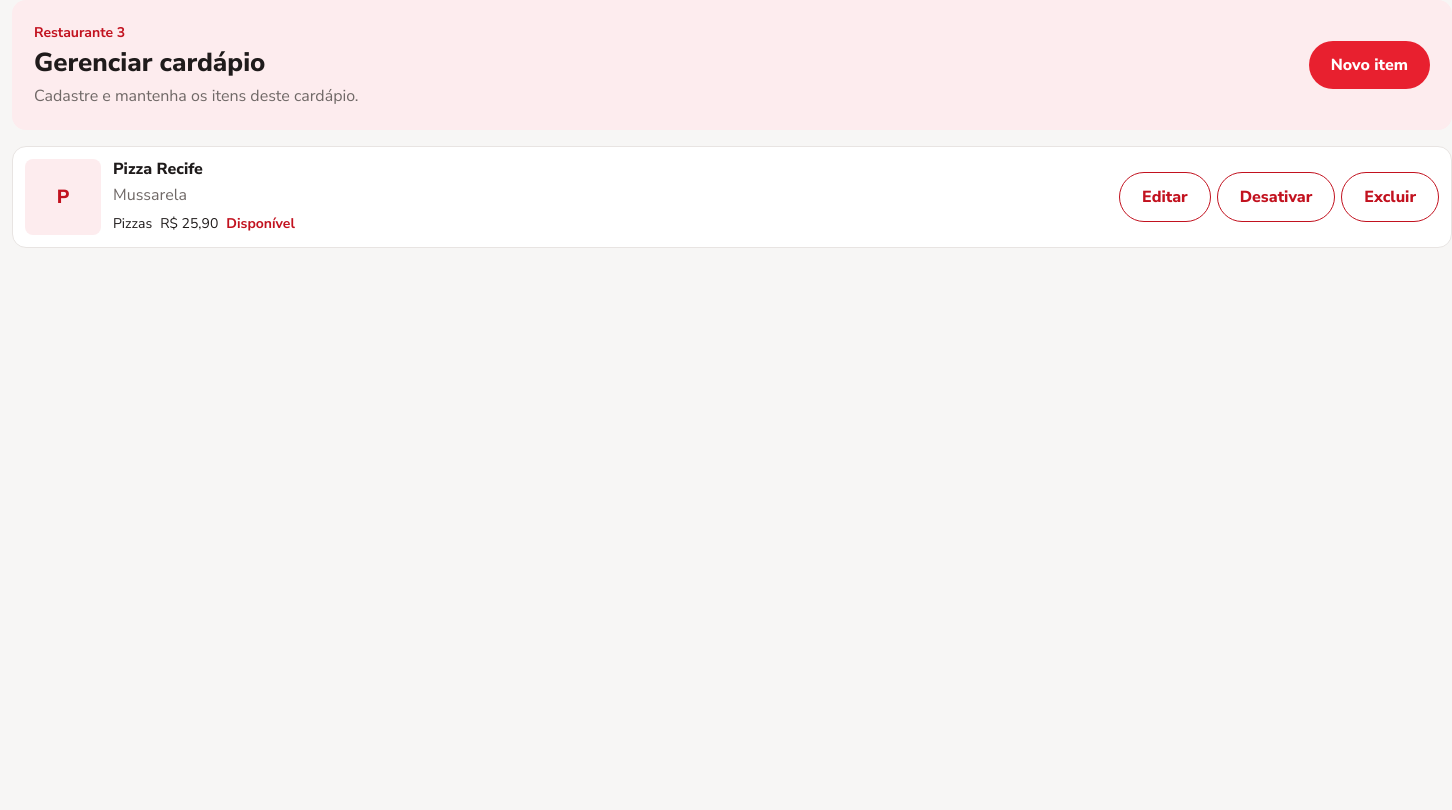
Test case: PainelCardapio › alterna disponibilidade e pede confirmação antes de excluir
Expected: the heading "Pizza Recife" is shown, [113,158,203,180]
Click the button with aria-label "Tornar indisponível: Pizza Recife".
click(1276, 197)  # box [1217,172,1335,222]
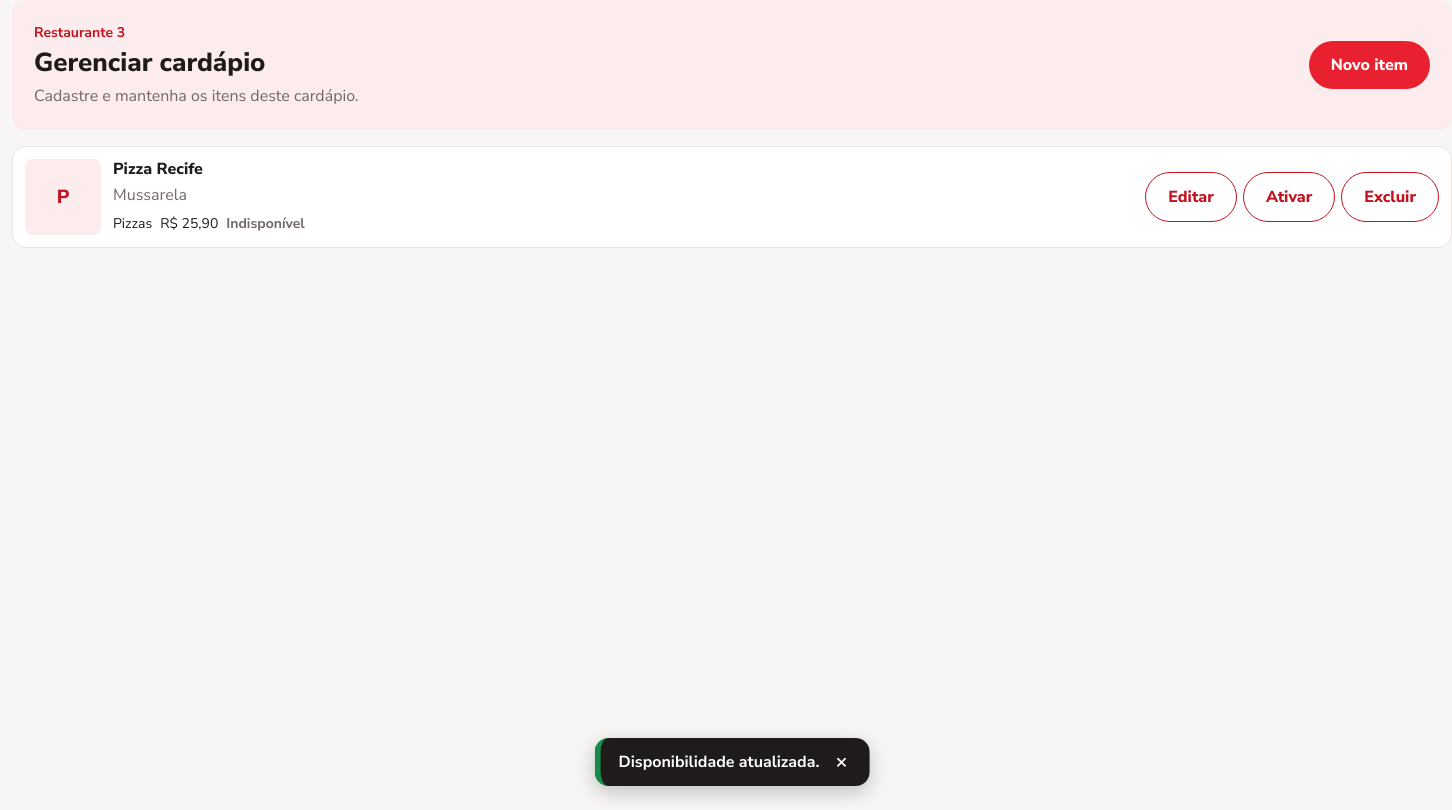
Expected: the text "Indisponível" is shown, [226,213,305,234]
Click the button with aria-label "Excluir Pizza Recife".
click(1390, 197)  # box [1341,172,1439,222]
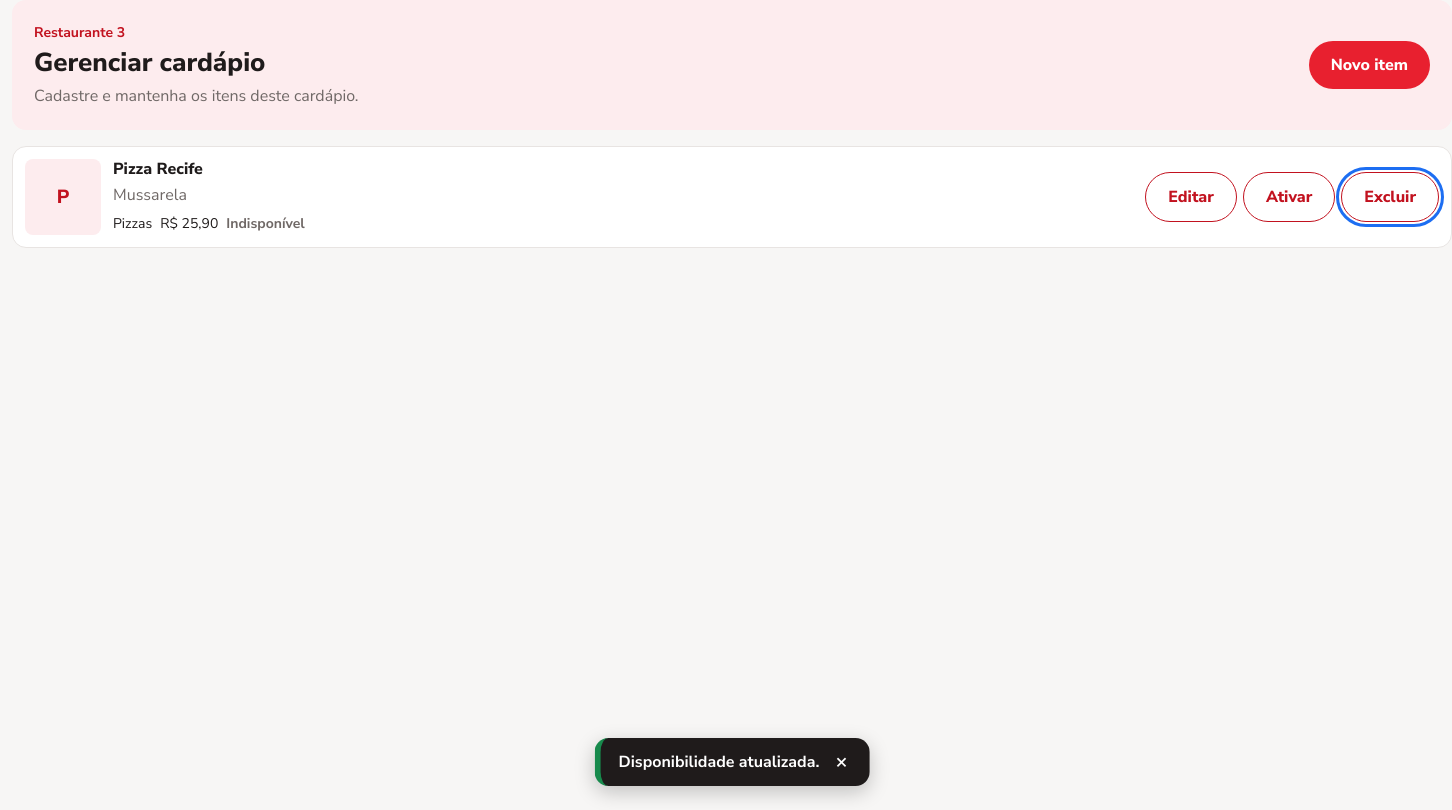
Expected: the heading "Pizza Recife" is shown, [113,158,203,180]
Click the button with aria-label "Excluir Pizza Recife".
click(1390, 197)  # box [1341,172,1439,222]
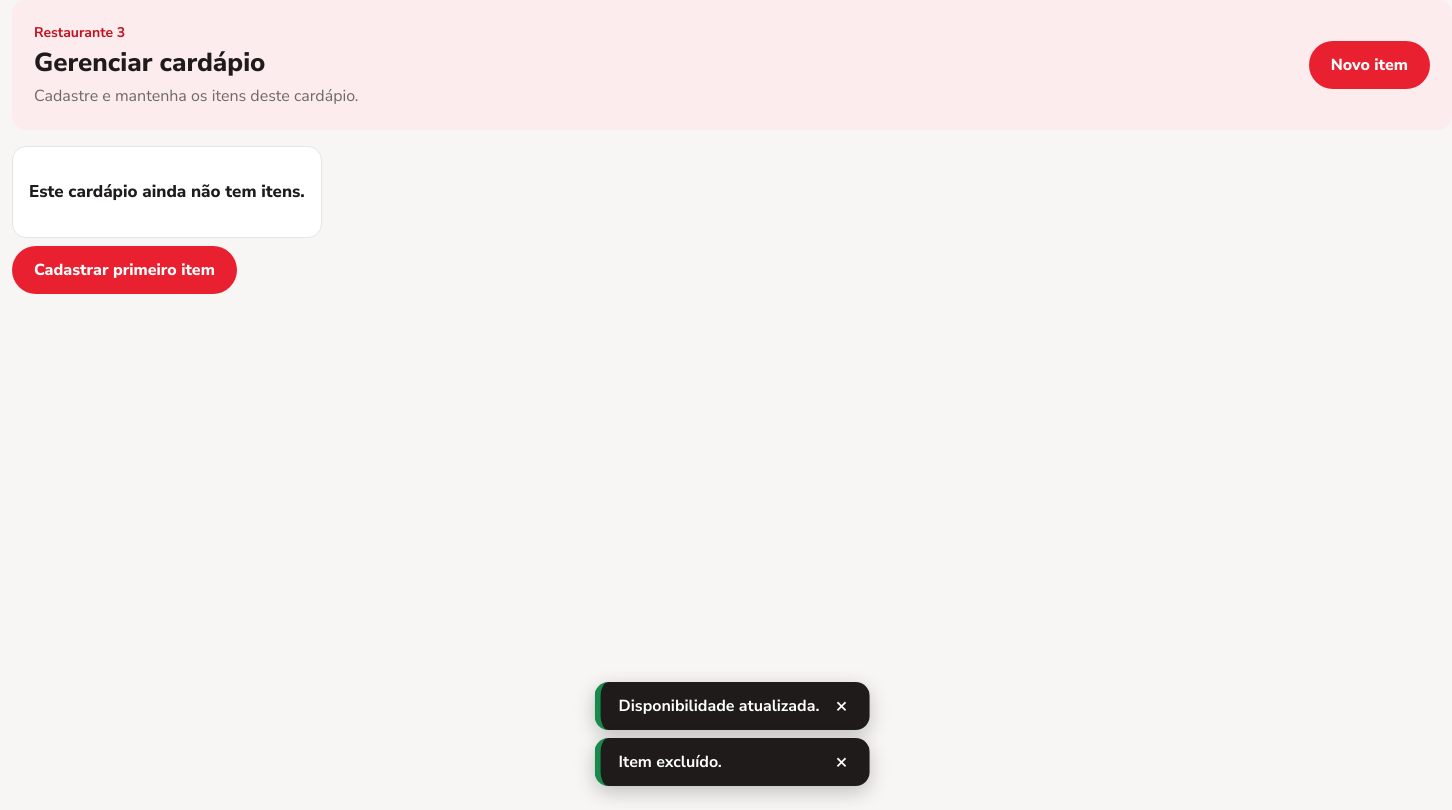
Expected: the heading "Pizza Recife" is gone
